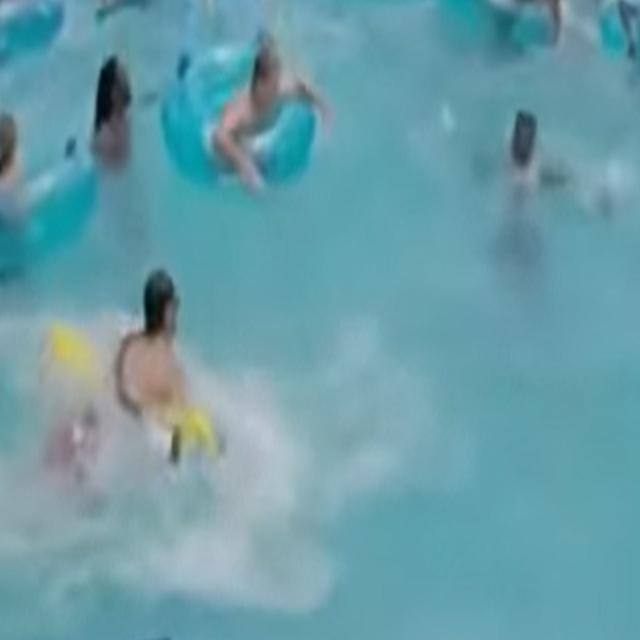Drowning: (486, 98, 586, 221)
Swimming: (213, 31, 333, 198)
